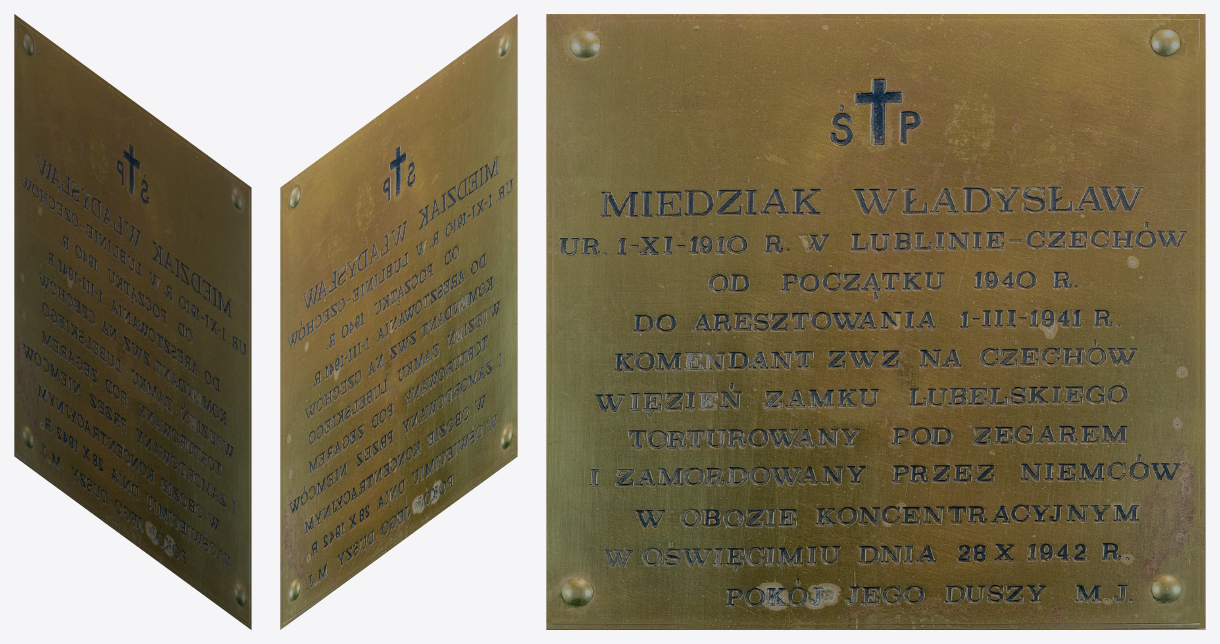
File: 6.  ŚP. MIEDZIAK WŁADYSŁAW.glb
3 renders of one model, left to right at view 1: azimuth 30°, elevation 25°; view 2: azimuth 150°, elevation 25°; view 3: azimuth 270°, elevation 25°, orthographic. The views are drawn at different scales.
Parts seen in each view (by area): view 1: Plane; view 2: Plane; view 3: Plane.
Part boxes in pixels (<box>): Plane: <box>14,14,251,629</box>; Plane: <box>280,14,517,629</box>; Plane: <box>546,14,1205,629</box>.
Bounding box in the file's own units: 0.0246 × 20.1 × 19.5.
Materials: 1 (1 with a texture image).
